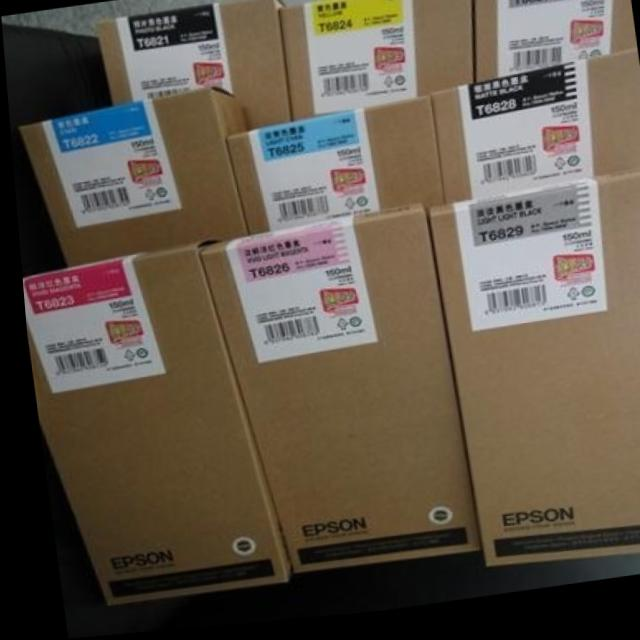box: (199, 210, 469, 580), (18, 248, 284, 604), (429, 179, 640, 575), (18, 92, 247, 266), (429, 59, 640, 213), (225, 102, 444, 240), (95, 0, 288, 132), (277, 0, 474, 126), (474, 0, 634, 93)
